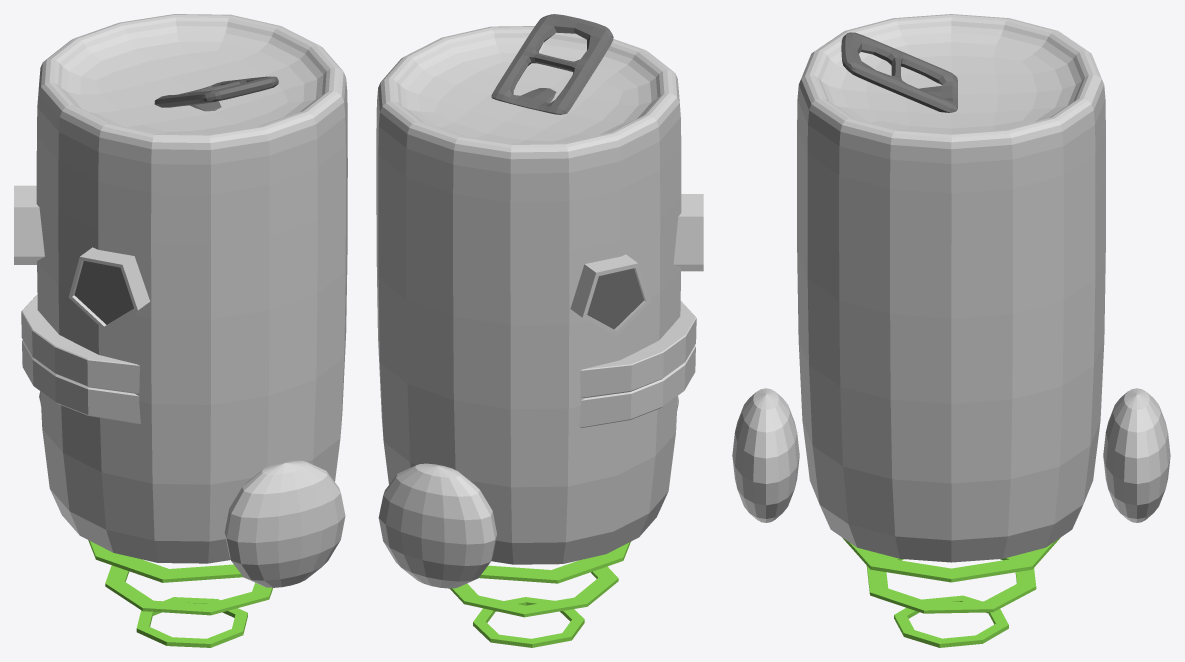
File: WaiterCanRecalc.glb
The picture shows the model from 3 angles, left to right: view 1: azimuth 30°, elevation 25°; view 2: azimuth 150°, elevation 25°; view 3: azimuth 270°, elevation 25°; orthographic projection.
Parts seen in each view (by area): view 1: Cube, Sphere.001, Cube.002, Cylinder, Cube.001, Plane.001, Plane, Cylinder.001, Cube.003, Plane.002; view 2: Cube, Sphere.002, Cube.003, Cube.002, Cylinder.001, Cube.001, Plane.001, Plane, Cylinder, Plane.002; view 3: Cube, Sphere.001, Sphere.002, Cube.003, Plane, Plane.001, Plane.002.
Part boxes in pixels (x1,y1,x2,y2): Cube: [36, 14, 347, 563]; Sphere.001: [224, 460, 345, 587]; Cube.002: [21, 294, 139, 393]; Cylinder: [68, 247, 150, 330]; Cube.001: [22, 340, 140, 423]; Plane.001: [105, 565, 272, 615]; Plane: [88, 540, 242, 582]; Cylinder.001: [14, 185, 44, 264]; Cube.003: [154, 76, 278, 111]; Plane.002: [136, 597, 247, 647]; Cube: [376, 26, 681, 564]; Sphere.002: [378, 463, 496, 588]; Cube.003: [491, 14, 613, 114]; Cube.002: [580, 301, 696, 397]; Cylinder.001: [570, 254, 650, 335]; Cube.001: [579, 346, 695, 427]; Plane.001: [450, 566, 618, 617]; Plane: [479, 542, 630, 583]; Cylinder: [673, 194, 703, 271]; Plane.002: [473, 597, 584, 647]; Cube: [797, 14, 1105, 562]; Sphere.001: [732, 388, 799, 522]; Sphere.002: [1103, 388, 1170, 522]; Cube.003: [841, 32, 957, 112]; Plane: [842, 537, 1060, 582]; Plane.001: [866, 555, 1036, 613]; Plane.002: [894, 595, 1008, 647].
Size of the model in its own units: 1.95 by 3.79 by 2.6.
